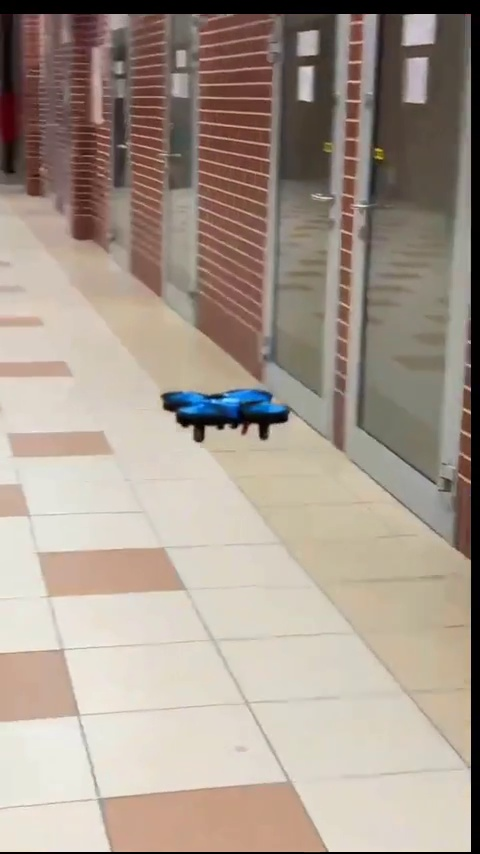drone: (160, 389, 289, 446)
